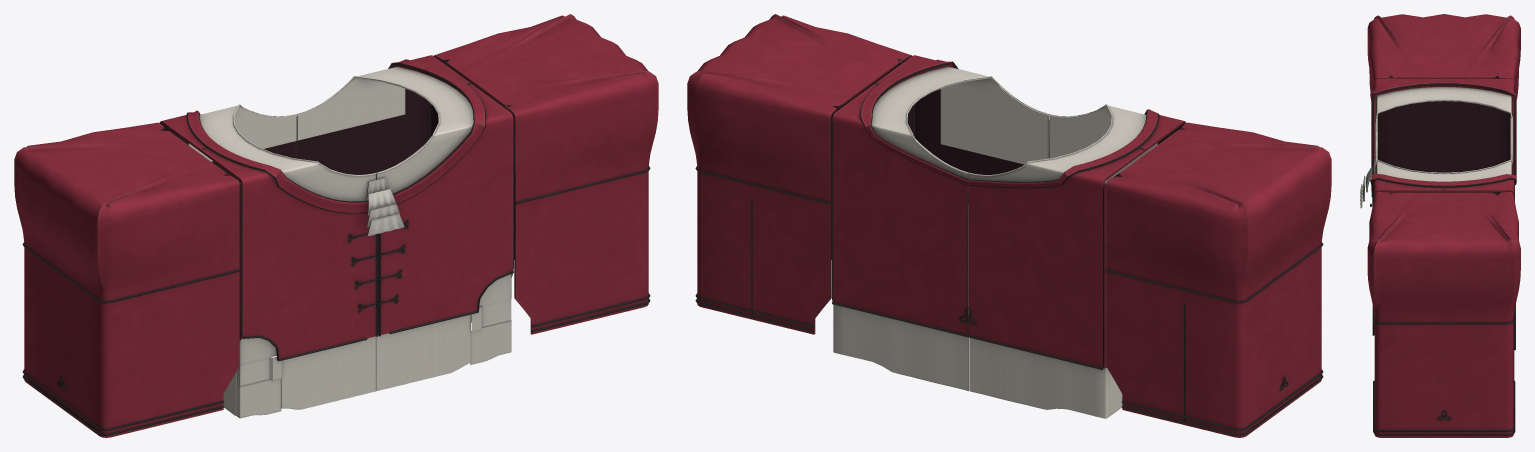
The model's file is NHAcc_CrimsonSpencer.fbx.
3 views of the same model, side by side, from view 1: azimuth 30°, elevation 25°; view 2: azimuth 150°, elevation 25°; view 3: azimuth 270°, elevation 25° (orthographic). The views are drawn at different scales.
Visible parts, largest first — view 1: CrimsonSpencerSleeveR, CrimsonSpencerShell, CrimsonSpencerSleeveL, CrimsonSpencerInner, CrimsonSpencerGown, CrimsonSpencerSideLow, CrimsonSpencerSideMid, CrimsonSpencerSideTop; view 2: CrimsonSpencerSleeveR, CrimsonSpencerShell, CrimsonSpencerSleeveL, CrimsonSpencerInner, CrimsonSpencerGown; view 3: CrimsonSpencerSleeveL, CrimsonSpencerShell, CrimsonSpencerSleeveR, CrimsonSpencerInner.
Part boxes in pixels (left/top/right/bottom): CrimsonSpencerSleeveR: left=14, top=122, right=240, bottom=437; CrimsonSpencerShell: left=160, top=55, right=513, bottom=361; CrimsonSpencerSleeveL: left=434, top=14, right=658, bottom=334; CrimsonSpencerInner: left=188, top=66, right=473, bottom=235; CrimsonSpencerGown: left=223, top=306, right=481, bottom=415; CrimsonSpencerSideLow: left=236, top=321, right=511, bottom=418; CrimsonSpencerSideMid: left=236, top=298, right=511, bottom=386; CrimsonSpencerSideTop: left=239, top=274, right=511, bottom=364; CrimsonSpencerSleeveR: left=1105, top=122, right=1331, bottom=437; CrimsonSpencerShell: left=832, top=55, right=1185, bottom=369; CrimsonSpencerSleeveL: left=687, top=14, right=911, bottom=334; CrimsonSpencerInner: left=871, top=66, right=1157, bottom=183; CrimsonSpencerGown: left=833, top=304, right=1122, bottom=418; CrimsonSpencerSleeveL: left=1367, top=192, right=1520, bottom=437; CrimsonSpencerShell: left=1370, top=78, right=1516, bottom=350; CrimsonSpencerSleeveR: left=1367, top=14, right=1520, bottom=99; CrimsonSpencerInner: left=1360, top=86, right=1512, bottom=208.
Size of the model in its own units: 4.2 by 1.8 by 1.22.
Materials: 1 (1 with a texture image).
